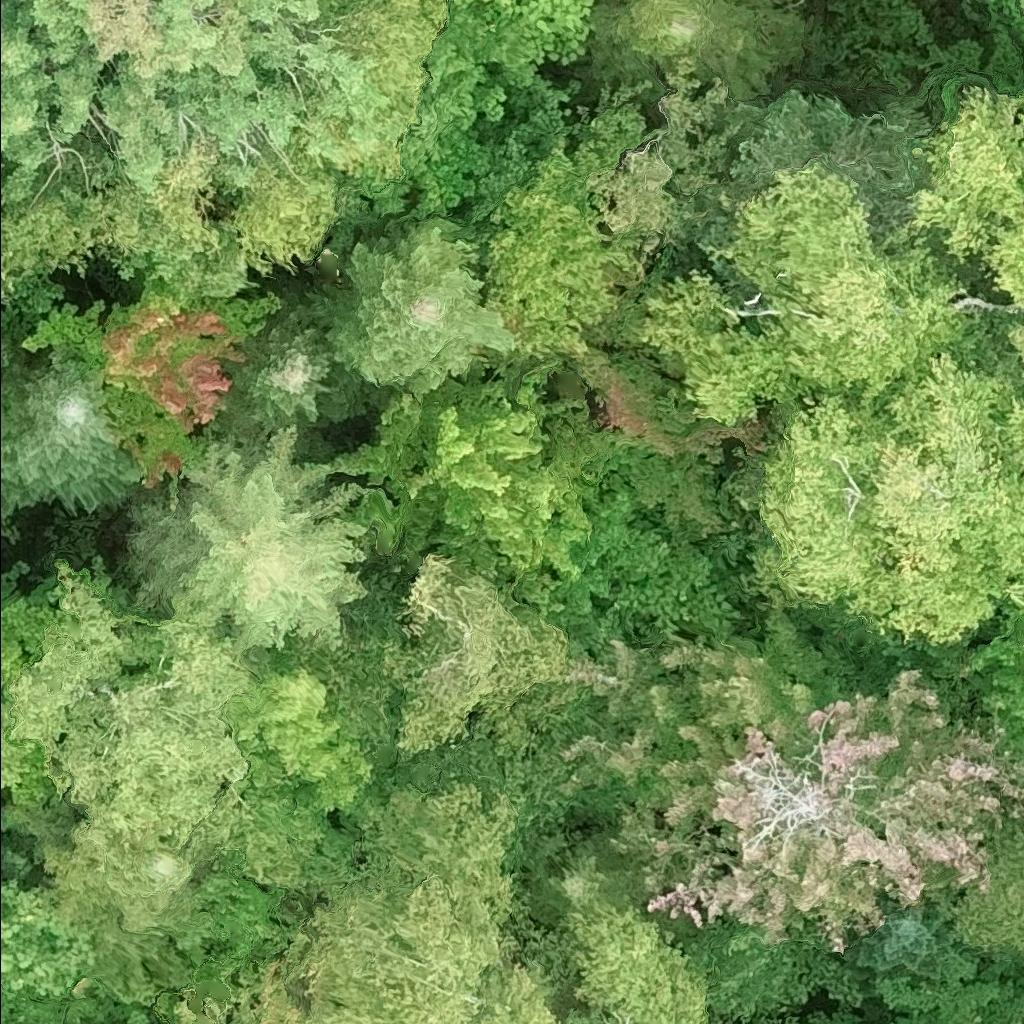crown: (554, 610, 1023, 960), (0, 562, 310, 953), (746, 353, 1023, 644), (299, 784, 575, 1023), (721, 162, 965, 403), (122, 424, 369, 650), (18, 278, 286, 483), (324, 357, 563, 564), (462, 396, 669, 604), (398, 541, 594, 749), (305, 222, 516, 395), (902, 85, 1023, 306), (637, 272, 805, 428), (0, 346, 146, 520), (205, 311, 366, 453), (667, 912, 859, 1023), (556, 899, 709, 1023), (0, 860, 95, 1001), (874, 948, 1023, 1023), (950, 818, 1023, 950), (178, 956, 319, 1023), (857, 900, 956, 980), (0, 579, 60, 708), (1005, 319, 1023, 374), (0, 567, 23, 600), (782, 1021, 804, 1023)
